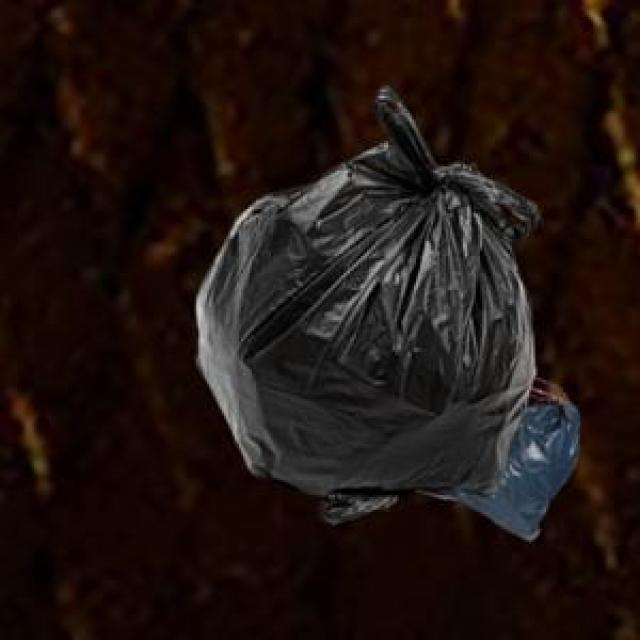Trashbag: (183, 81, 532, 498)
